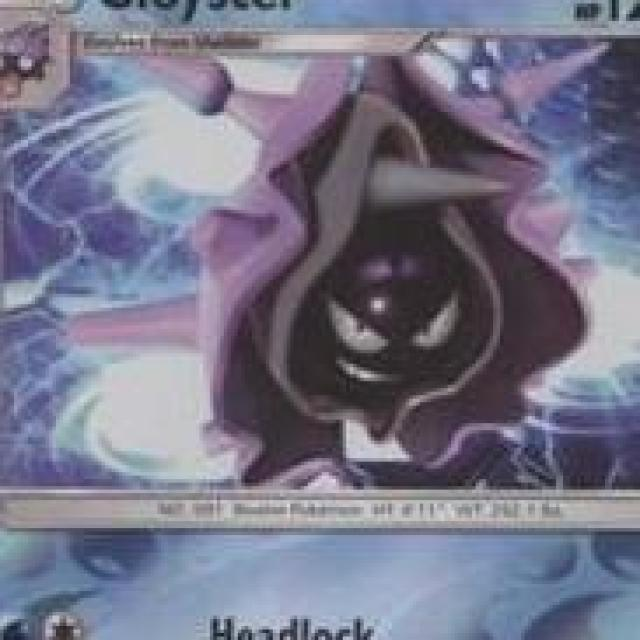Cloyster: (176, 50, 605, 493)
